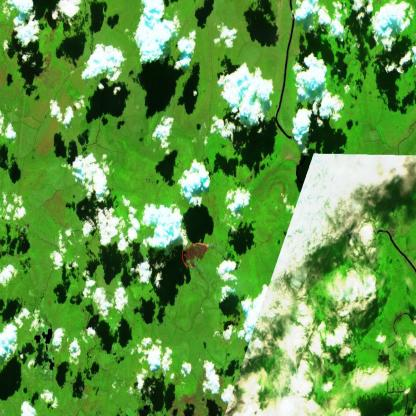fire: (176, 232, 214, 276)
